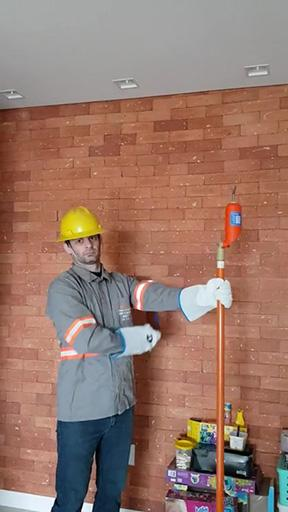Detector_Tensao_Contato: (223, 184, 243, 250)
Vara_Manobra: (214, 244, 228, 512)
